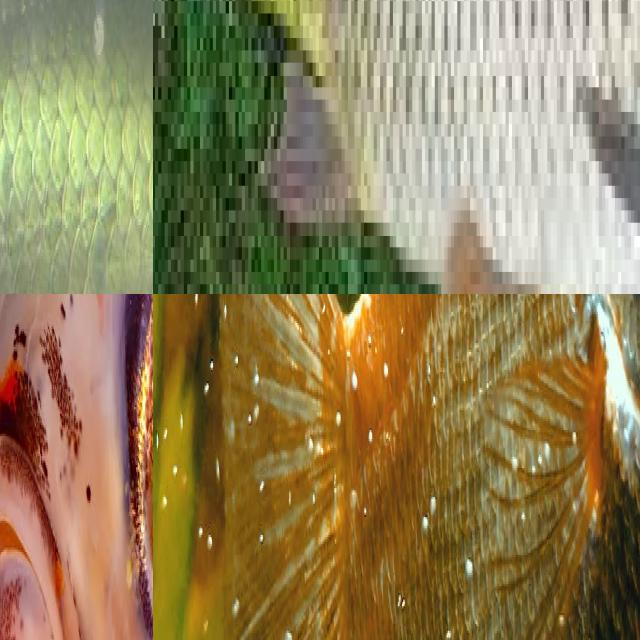fish: (153, 294, 640, 640), (153, 0, 640, 294), (0, 0, 153, 294), (70, 294, 153, 640)
